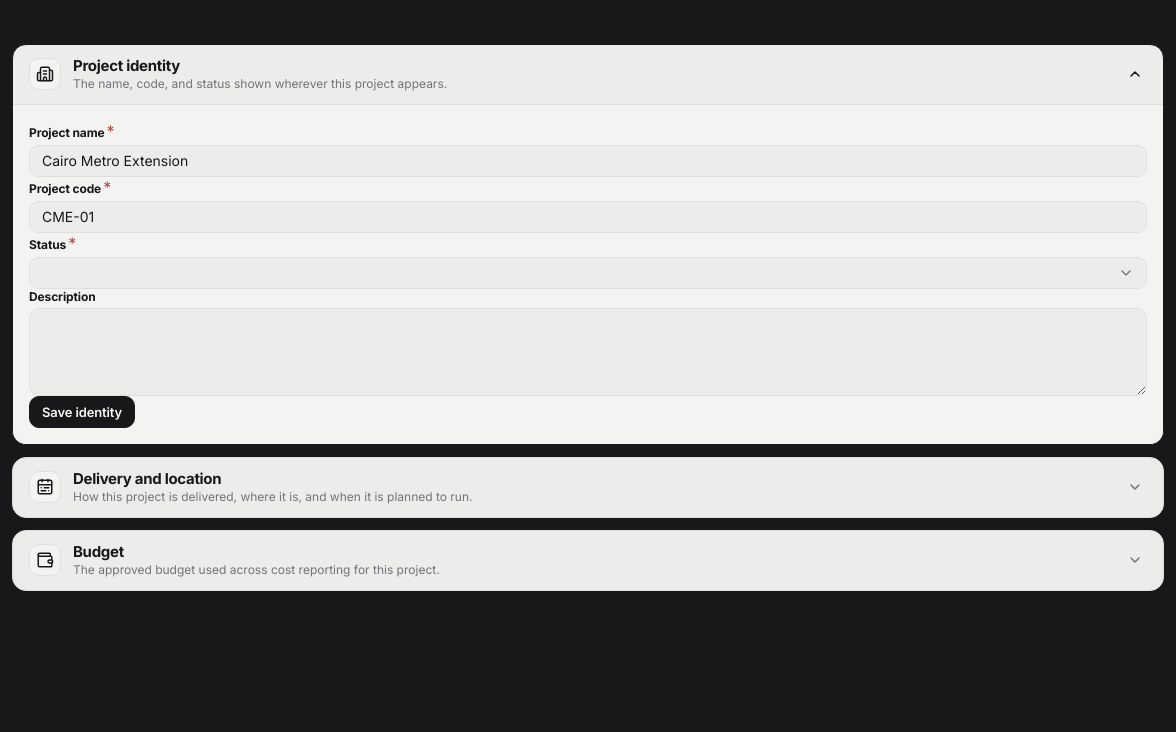
Test case: ProjectSettingsPage › validates the project code format in the browser
Replace the text in the field labelled "Project code" with "bad code" at {"x": 588, "y": 217}, box [29,201,1147,233]
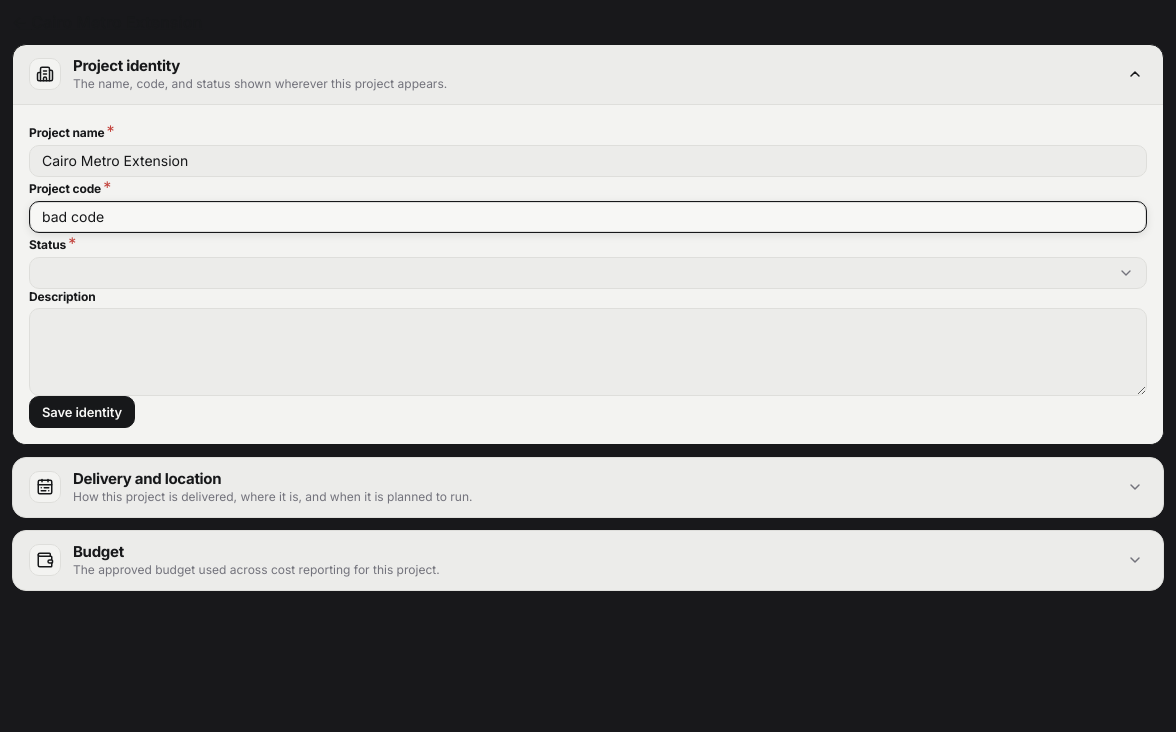
Click the button "Save identity" at {"x": 82, "y": 412}, box [29,396,135,428]
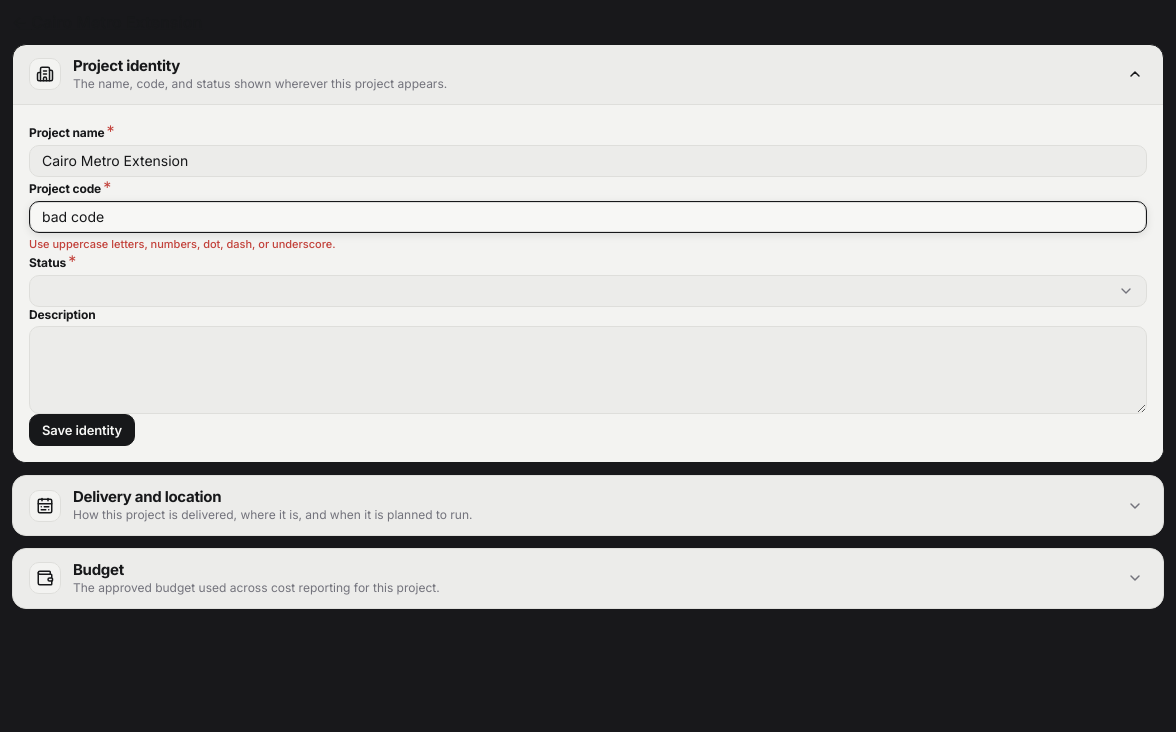
Result: the text "Use uppercase letters, numbers, dot, dash, or underscore." is shown at [29,237,336,251]
